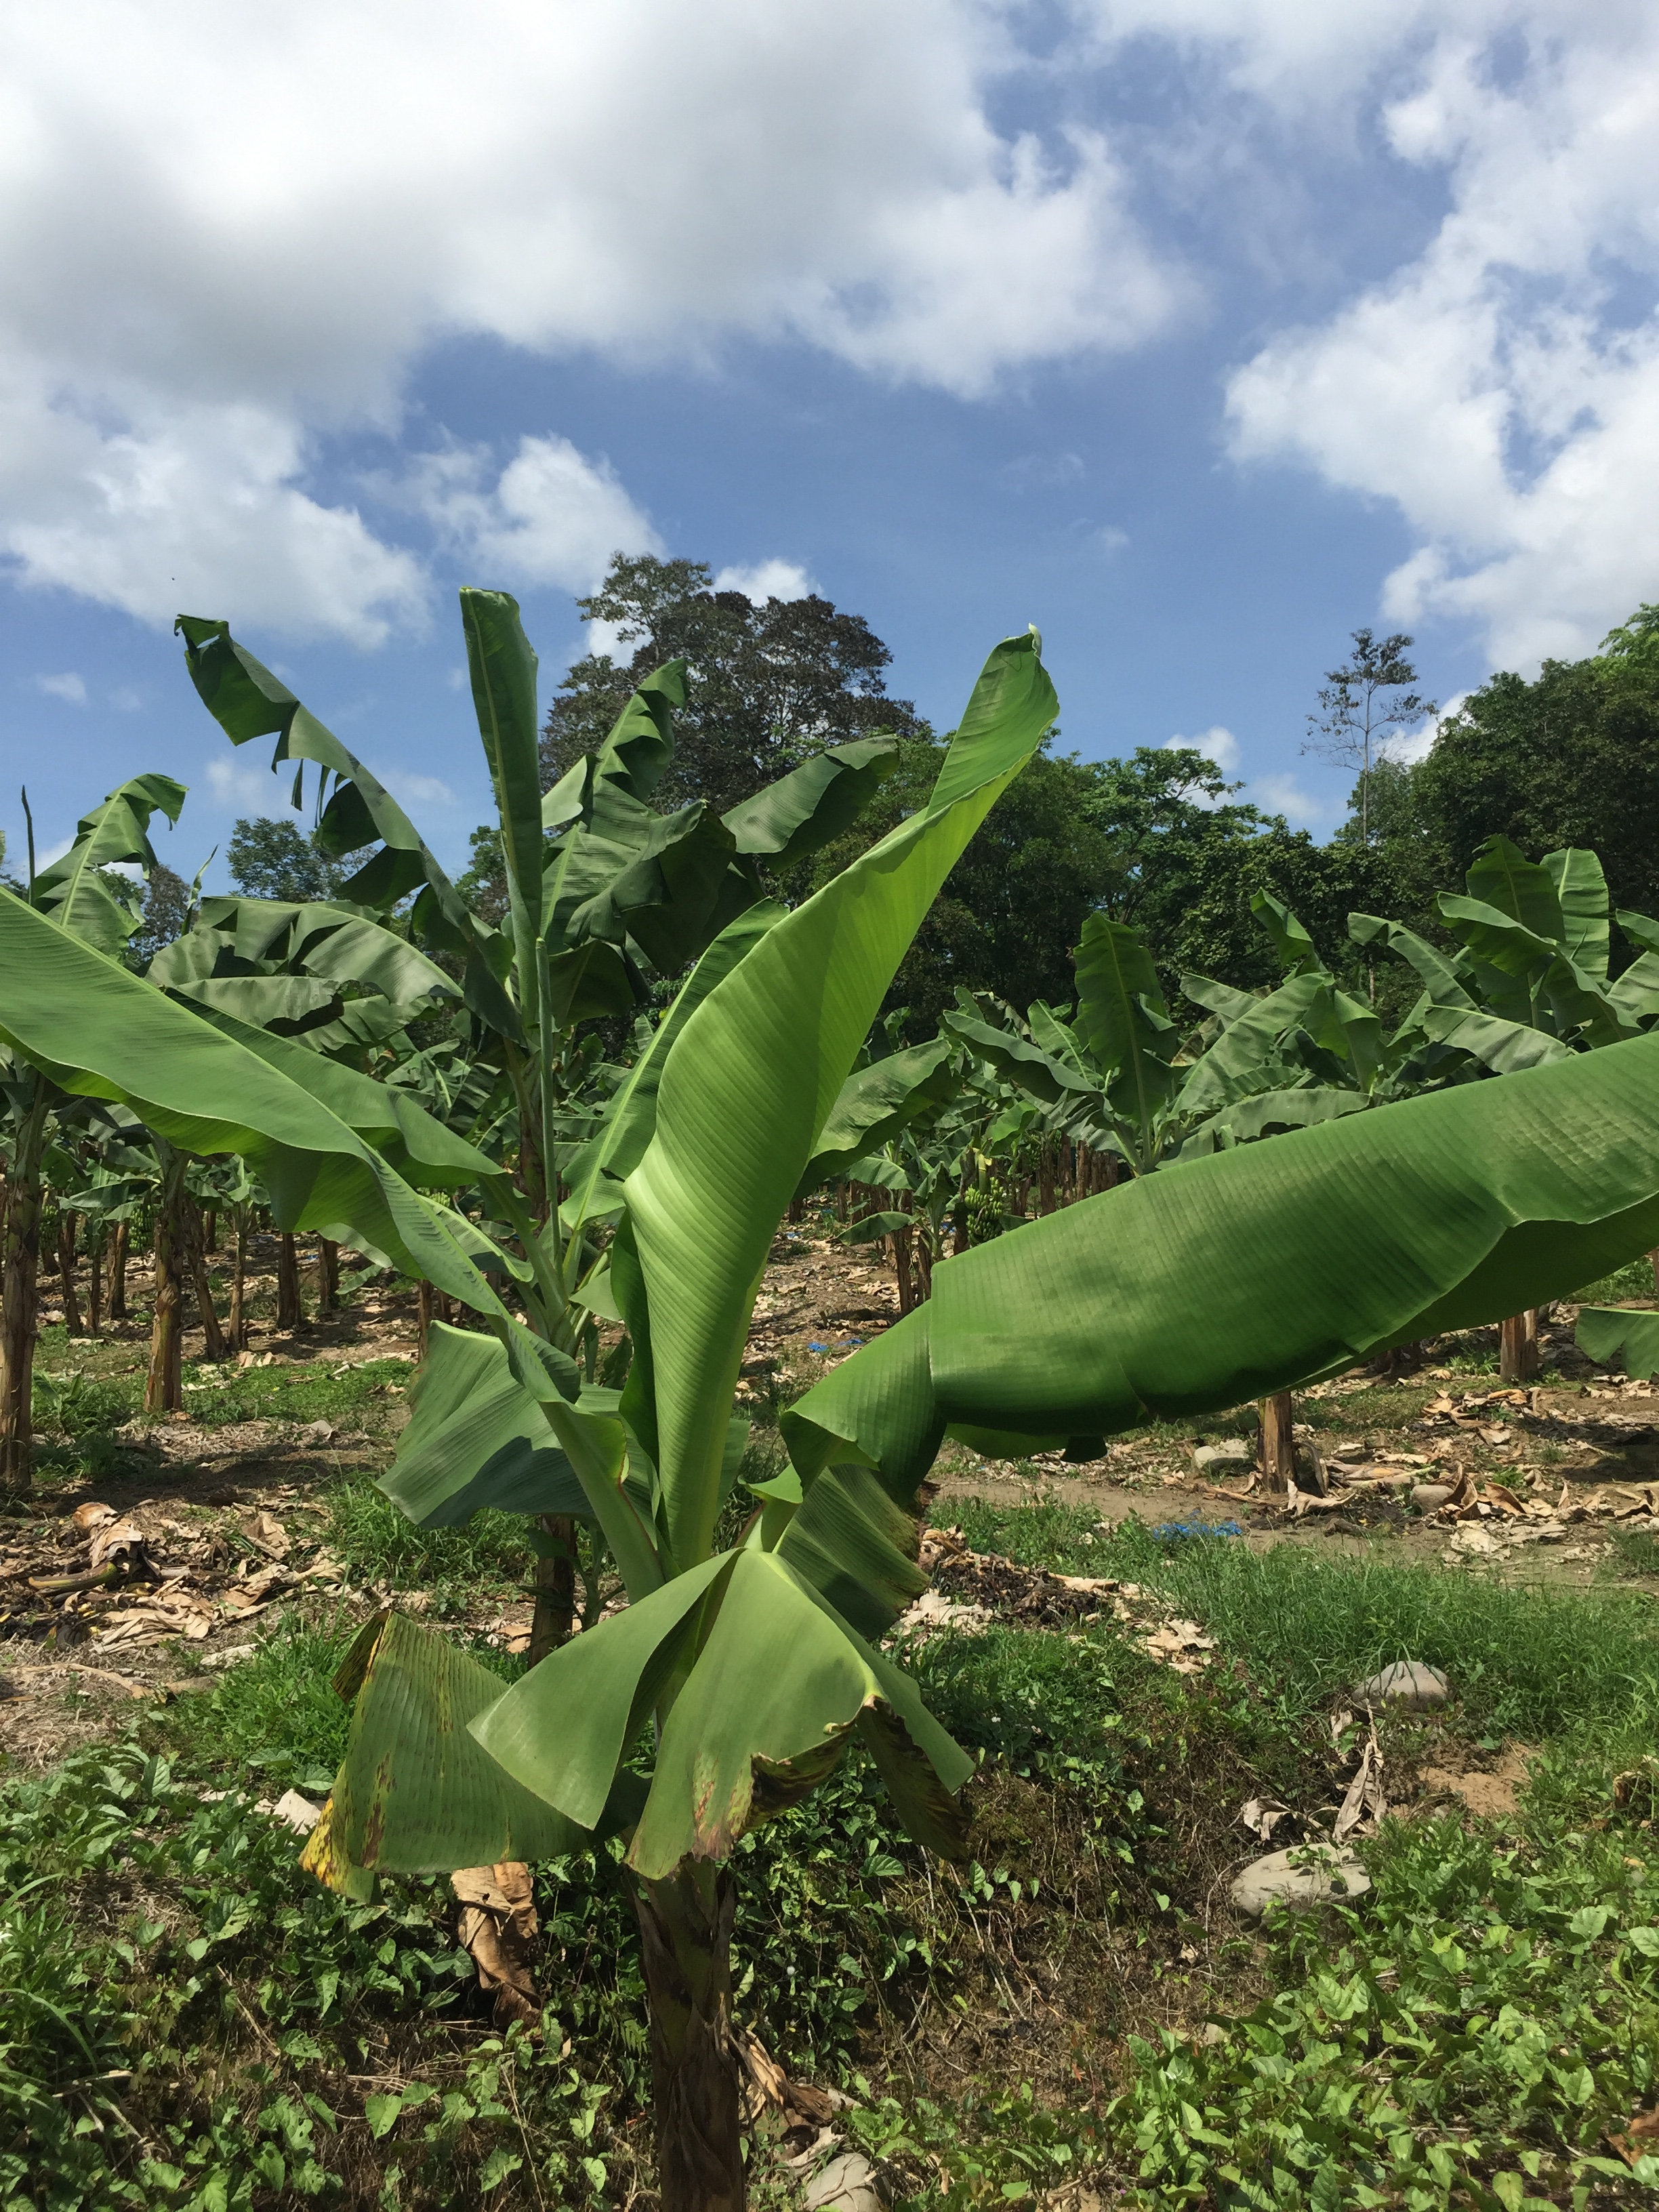candleleafs: (533, 937, 568, 1296), (21, 786, 35, 909)
